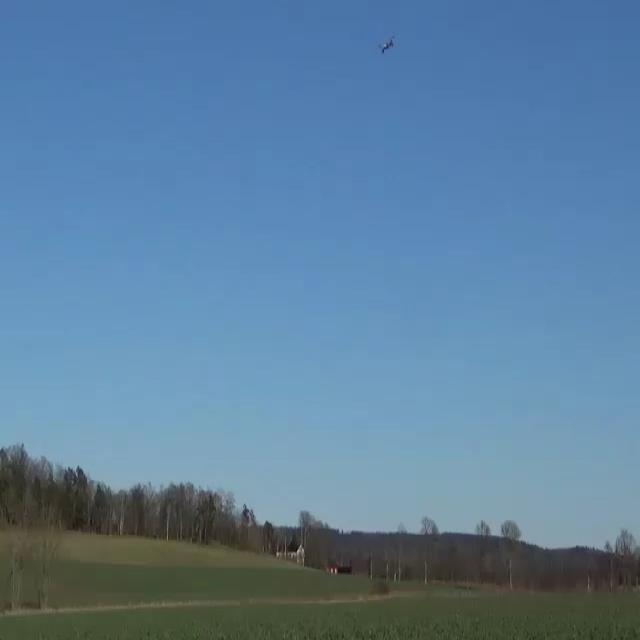Drone: (362, 29, 407, 63)
